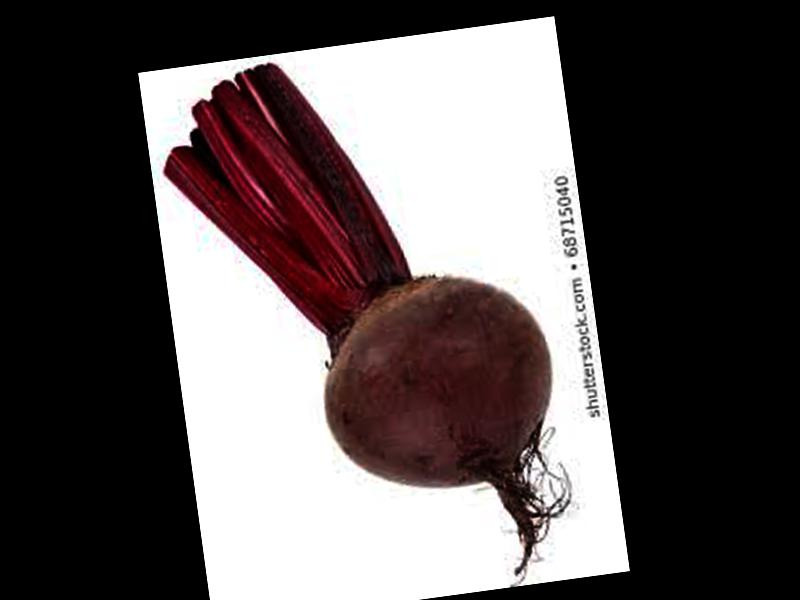Beet: (154, 31, 576, 600)
